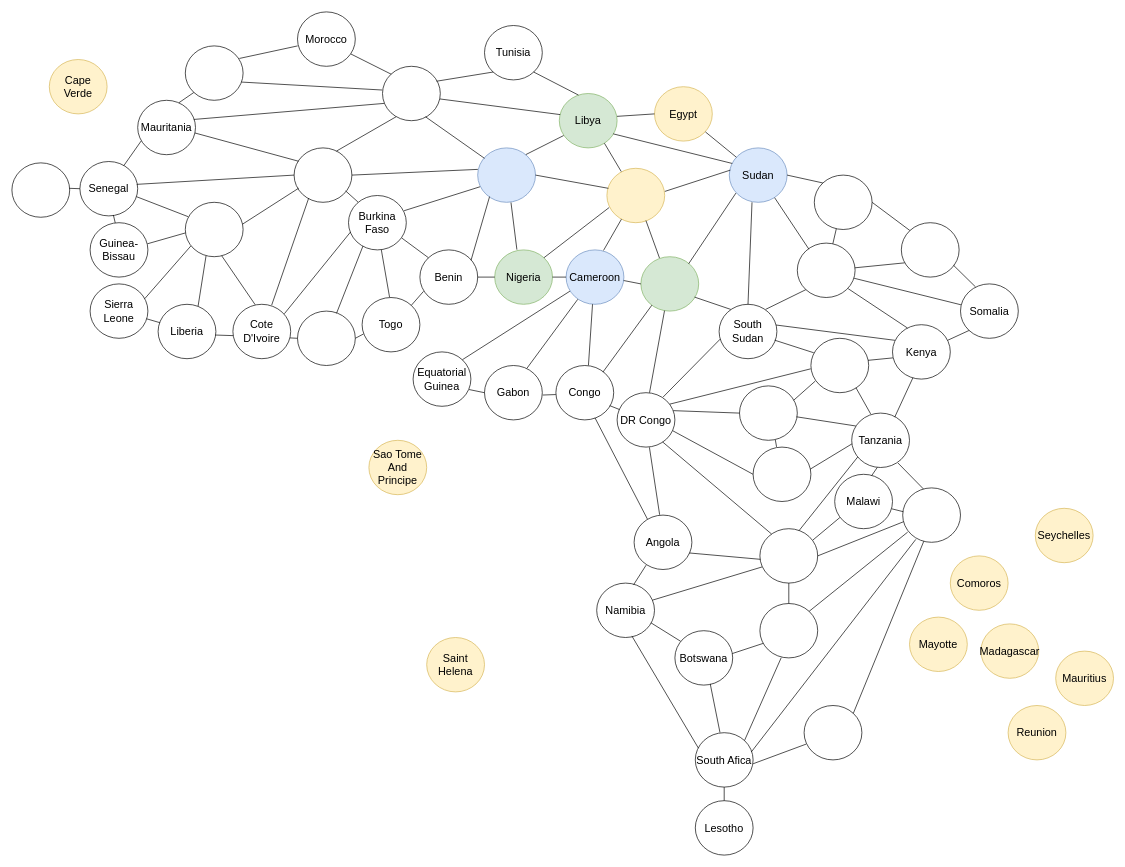
This 1125x867 diagram has some shape labels left out. Here are the shapes that lost their labels. From the top down, the centre of each, then its label:
At (214,72): "Western Sahara".
At (411,93): "Algreria".
At (40,189): "The Gambia".
At (322,174): "Mali".
At (506,174): "Niger".
At (635,195): "Chad".
At (843,202): "Eritrea".
At (214,229): "Guinea".
At (930,249): "Djibouti".
At (669,283): "Central African Republic".
At (826,270): "Ethiopia".
At (326,338): "Ghana".
At (839,365): "Uganda".
At (768,412): "Rwanda".
At (781,474): "Burundi".
At (931,514): "Mozambique".
At (788,555): "Zambia".
At (788,630): "Zimbabwe".
At (832,732): "Eswatini".
